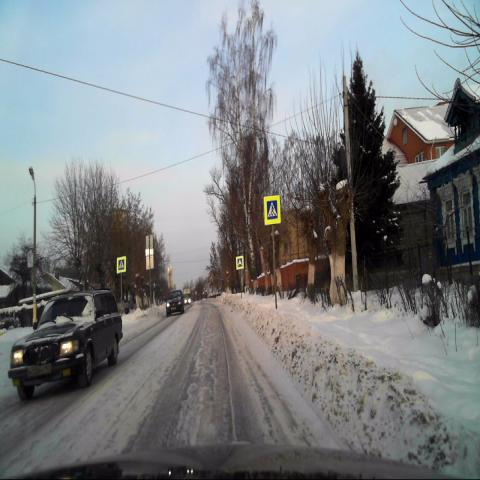5_19_1: (265, 195, 281, 226)
